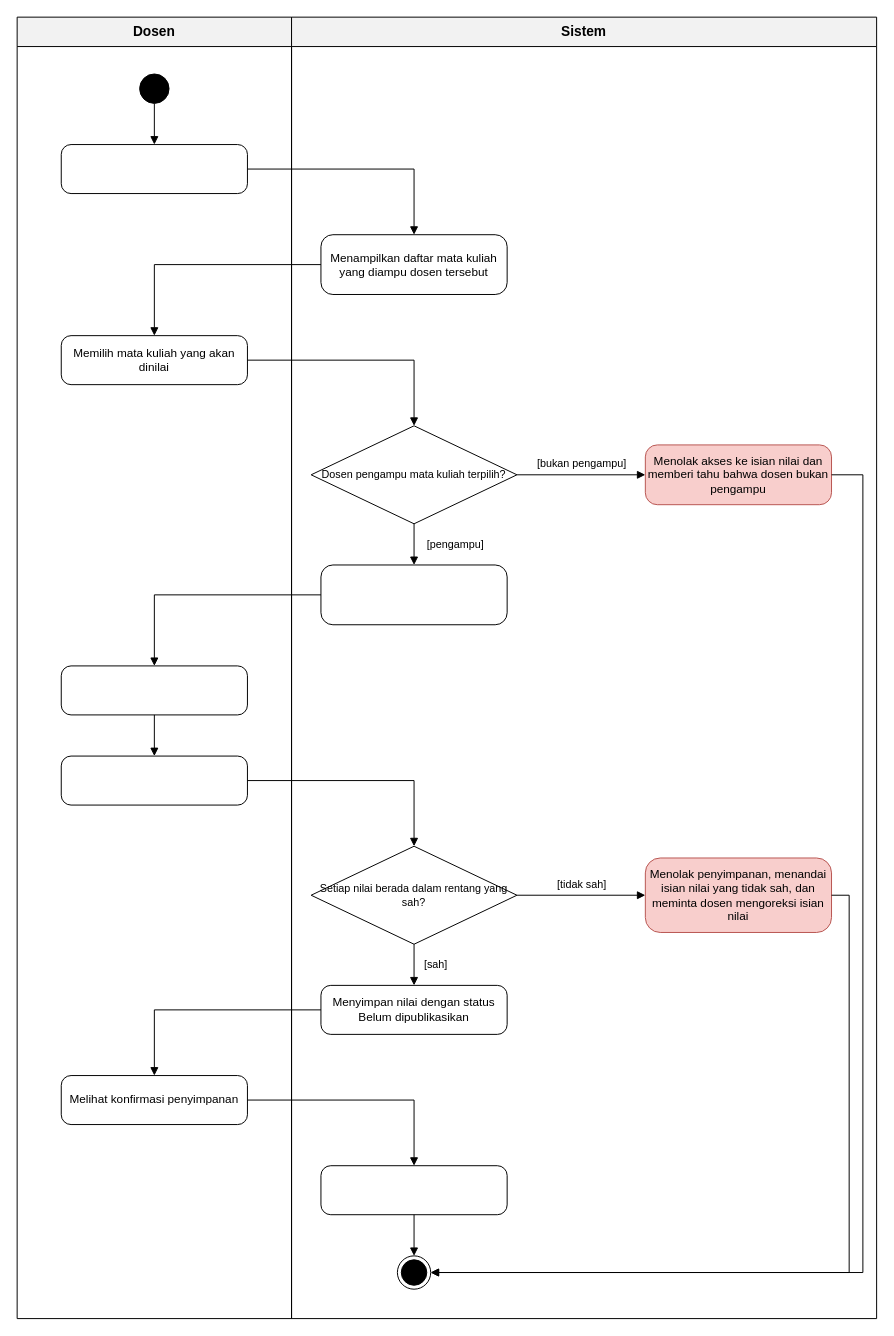
The diagram is 894 pixels wide and 1336 high, and some of its shapes have lost their labels. The shapes that lost their labels are listed below. From the top down, each one's centre as x and y in pixels, then its label:
At (x=153, y=169): "Membuka fungsi Input Nilai Mata Kuliah".
At (x=413, y=594): "Menampilkan daftar mahasiswa peserta beserta isian nilai".
At (x=153, y=690): "Mengisi nilai setiap mahasiswa peserta".
At (x=153, y=780): "Memilih simpan".
At (x=413, y=1190): "Menampilkan ringkasan nilai yang tersimpan".
